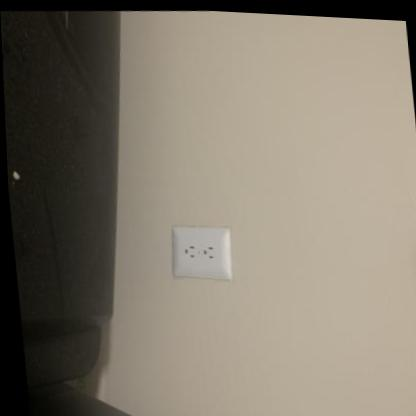OUTLET: (168, 223, 234, 282)
